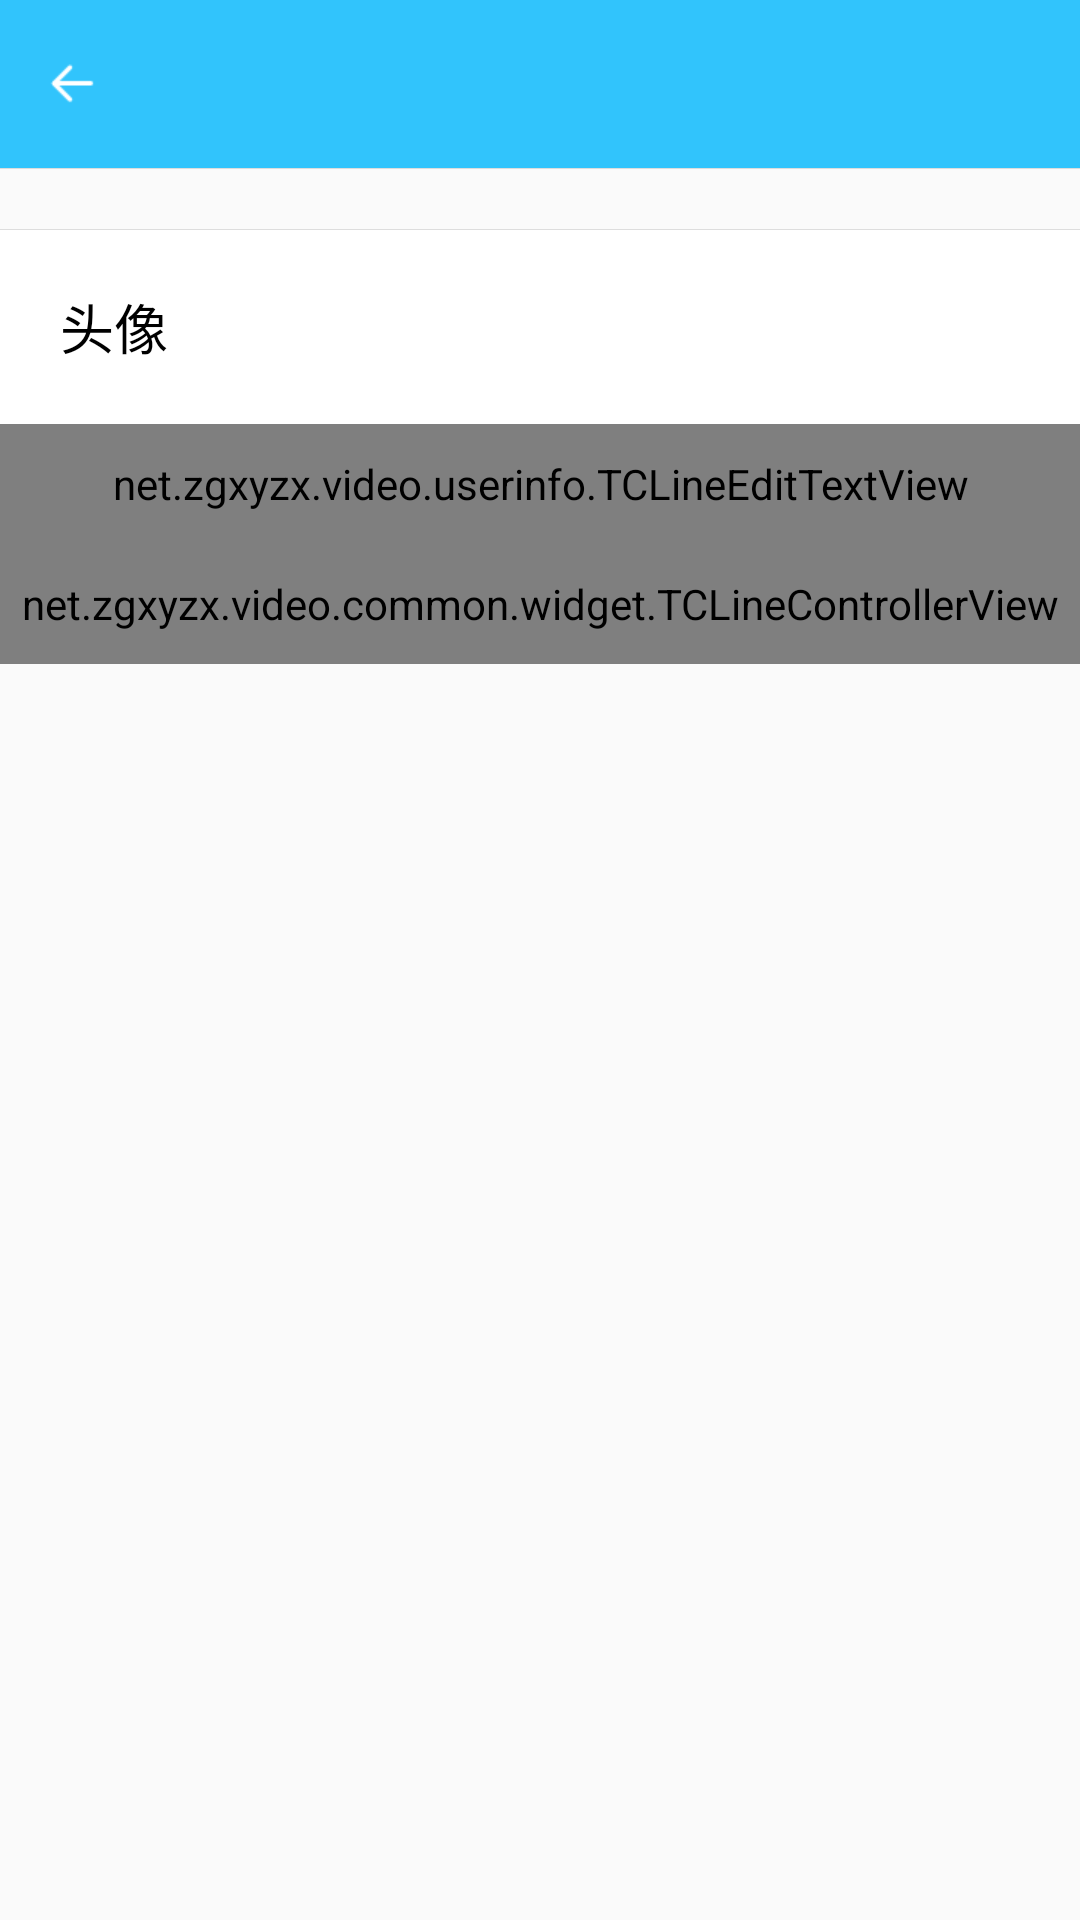

Screen size 1080w x 1920h. Icon name, then its center in pixels as [x,y]:
back: [72,83]
